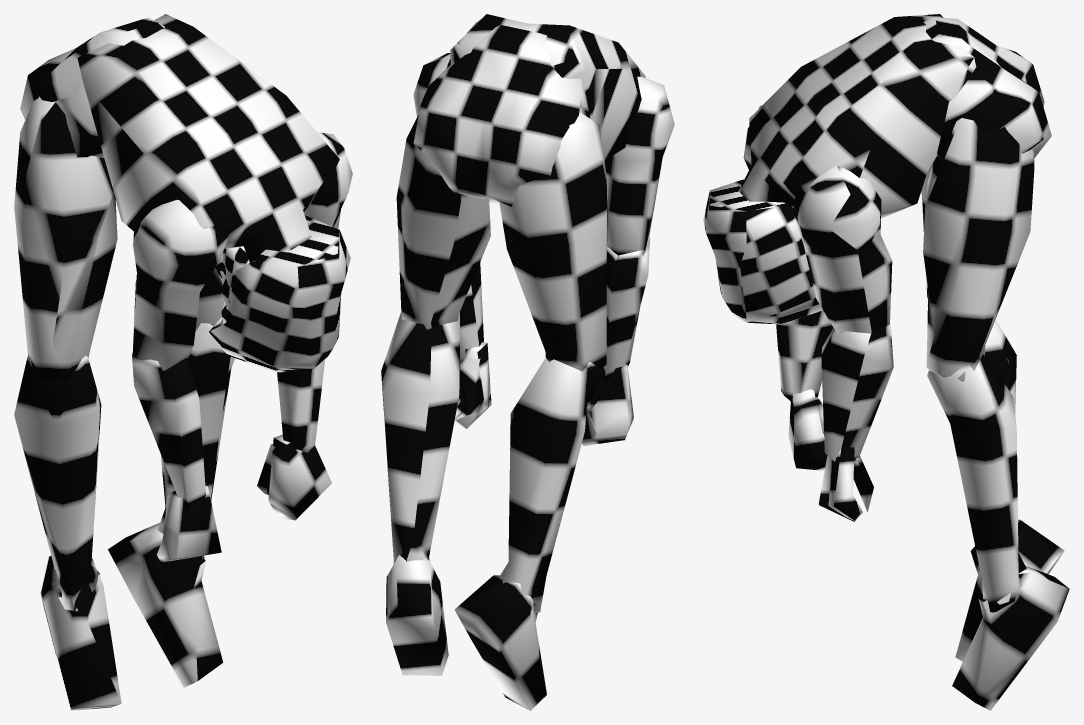
File: stst137.dae
3 views of the same model, side by side, from view 1: azimuth 30°, elevation 25°; view 2: azimuth 150°, elevation 25°; view 3: azimuth 270°, elevation 25° (orthographic). The views are drawn at different scales.
Parts seen in each view (by area): view 1: man04; view 2: man04; view 3: man04.
Boxes of the visible parts, box(x1,y1,x2,y2) form: man04: box(14, 14, 352, 710); man04: box(381, 14, 674, 710); man04: box(703, 14, 1069, 710).
Bounding box in the file's own units: 0.3726 × 0.4874 × 0.9497.
Materials: 1 (1 with a texture image).
